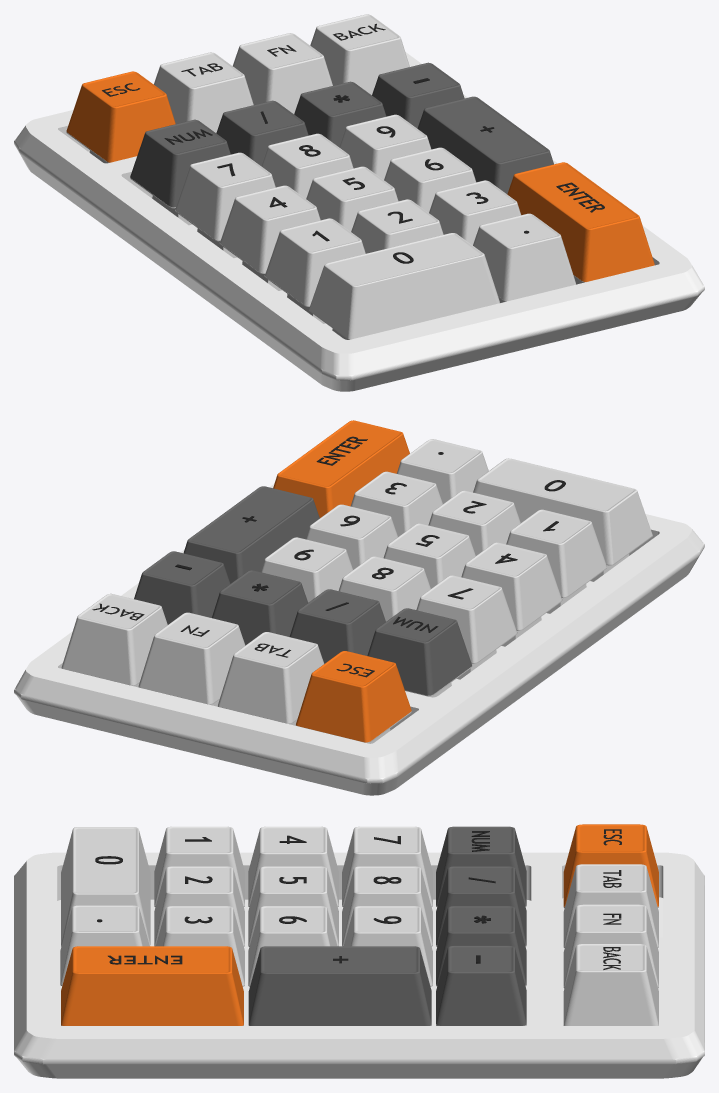
File: Numbers.fbx
3 views of the same model, one above another, from view 1: azimuth 30°, elevation 25°; view 2: azimuth 150°, elevation 25°; view 3: azimuth 270°, elevation 25° (orthographic). The views are drawn at different scales.
Parts seen in each view (by area): view 1: Numpad, switch cover.021, switch cover.020, switch cover.019, switch cover.001, switch cover.018, switch cover.003, switch cover.002, switch cover.004, switch cover.015, switch cover.009, switch cover.012 (+10 smaller); view 2: Numpad, switch cover.021, switch cover.001, switch cover.019, switch cover.020, switch cover.003, switch cover.002, switch cover.004, switch cover.005, switch cover.015, switch cover.009, switch cover.012 (+10 smaller); view 3: Numpad, switch cover.019, switch cover.020, switch cover.004, switch cover.021, switch cover.008, switch cover.002, switch cover.001, switch cover.003, switch cover.015, switch cover.009, switch cover.012 (+11 smaller).
Boxes of the visible parts, <box> form: Numpad: <box>14,52,704,391</box>; switch cover.021: <box>309,233,499,339</box>; switch cover.020: <box>507,162,654,281</box>; switch cover.019: <box>417,96,553,193</box>; switch cover.001: <box>66,71,175,162</box>; switch cover.018: <box>473,213,575,300</box>; switch cover.003: <box>233,33,332,113</box>; switch cover.002: <box>154,52,253,132</box>; switch cover.004: <box>310,14,409,94</box>; switch cover.015: <box>265,218,365,305</box>; switch cover.009: <box>175,152,275,239</box>; switch cover.012: <box>220,185,320,272</box>; Numpad: <box>14,484,704,795</box>; switch cover.021: <box>473,458,652,564</box>; switch cover.001: <box>296,651,411,742</box>; switch cover.019: <box>183,486,319,583</box>; switch cover.020: <box>273,420,409,517</box>; switch cover.003: <box>138,612,245,703</box>; switch cover.002: <box>218,632,324,723</box>; switch cover.004: <box>61,593,167,685</box>; switch cover.005: <box>367,608,471,695</box>; switch cover.015: <box>506,509,606,596</box>; switch cover.009: <box>416,575,516,662</box>; switch cover.012: <box>461,542,561,629</box>; Numpad: <box>14,852,704,1078</box>; switch cover.019: <box>248,946,431,1025</box>; switch cover.020: <box>61,946,243,1025</box>; switch cover.004: <box>563,944,658,1025</box>; switch cover.021: <box>61,827,150,945</box>; switch cover.008: <box>436,945,526,1025</box>; switch cover.002: <box>563,864,658,946</box>; switch cover.001: <box>563,824,658,906</box>; switch cover.003: <box>563,904,658,987</box>; switch cover.015: <box>154,826,244,905</box>; switch cover.009: <box>342,826,432,905</box>; switch cover.012: <box>248,826,338,905</box>.
Size of the model in its own units: 345 by 74.05 by 522.
